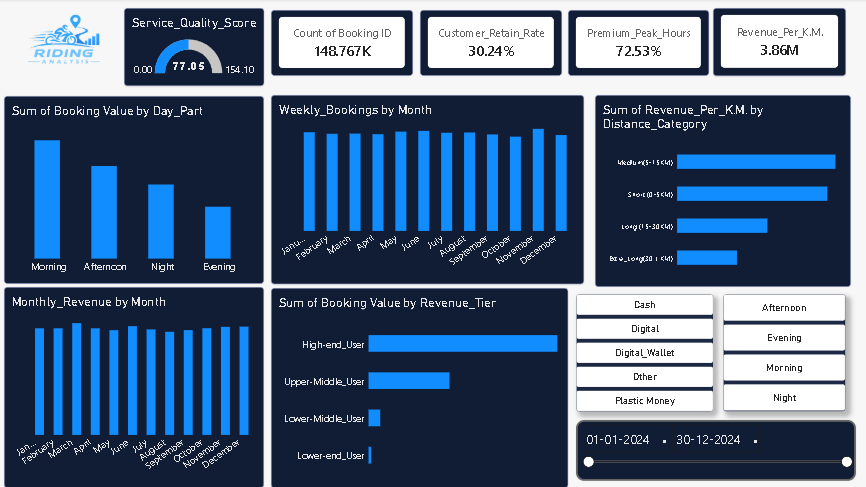

What the dashboard file says about the page in this screenshot:
{"tool":"powerbi","page":{"name":"Summary","canvas":[1920,1080],"ordinal":6},"visuals":[{"type":"gauge","fields":{"Y":["RideBookings and Measures.Service_Quality_Score"]},"box":[275.5,22,308.6,171.9],"z":0},{"type":"cardVisual","fields":{"Data":["RideBookings and Measures.Customer_Retain_Rate"]},"box":[927.9,26.4,313,145.5],"z":1000},{"type":"cardVisual","fields":{"Data":["Sum(RideBookings and Measures.Revenue_Per_K.M.)"]},"box":[1573.7,22,293.1,149.9],"z":2000},{"type":"cardVisual","fields":{"Data":["RideBookings and Measures.Premium_Peak_Hour_Index"]},"box":[1254.1,26.4,310.8,145.5],"z":3000},{"type":"clusteredColumnChart","fields":{"Category":["RideBookings and Measures.Day_Part"],"Y":["Sum(RideBookings and Measures.Booking Value)"]},"box":[11,216,573.1,414.4],"z":4000},{"type":"clusteredBarChart","fields":{"Category":["RideBookings and Measures.Revenue_Tier"],"Y":["Sum(RideBookings and Measures.Booking Value)"]},"box":[599.5,639.2,654.6,440.8],"z":5000},{"type":"clusteredBarChart","fields":{"Category":["RideBookings and Measures.Distance_Category"],"Y":["Sum(RideBookings and Measures.Revenue_Per_K.M.)"]},"box":[1313.6,213.8,564.2,423.2],"z":6000},{"type":"lineStackedColumnComboChart","fields":{"Category":["calendar and measures.Date.Variation.Date Hierarchy.Month"],"Y":["RideBookings and Measures.Monthly_Revenue"]},"box":[11,637,573.1,443],"z":7000},{"type":"lineStackedColumnComboChart","fields":{"Category":["calendar and measures.Date.Variation.Date Hierarchy.Month"],"Y":["RideBookings and Measures.Weekly_Bookings"]},"box":[599.5,213.8,689.9,416.6],"z":8000},{"type":"advancedSlicerVisual","fields":{"Values":["RideBookings and Measures.Payment_Method_Category"]},"box":[1271.1,651.6,303,260.1],"z":9000},{"type":"advancedSlicerVisual","fields":{"Values":["RideBookings and Measures.Day_Part"]},"box":[1595.5,651.6,270.8,260.1],"z":10000},{"type":"slicer","fields":{"Values":["calendar and measures.Date"]},"box":[1271.1,930.5,616.8,134.1],"z":11000},{"type":"cardVisual","fields":{"Data":["Count(rideBookings.Booking ID)"]},"box":[599.5,26.4,313,145.5],"z":12000},{"type":"image","box":[11,0,264.5,194],"z":12001}]}

Visuals, with their boxes in screenshot pixels (x1, y1, x2, y2), scaled from the page's 1920x1080 canvas onto the 866x487 screenshot:
gauge - RideBookings and Measures.Service_Quality_Score: 124:10:263:87
cardVisual - RideBookings and Measures.Customer_Retain_Rate: 419:12:560:78
cardVisual - Sum(RideBookings and Measures.Revenue_Per_K.M.): 710:10:842:78
cardVisual - RideBookings and Measures.Premium_Peak_Hour_Index: 566:12:706:78
clusteredColumnChart - RideBookings and Measures.Day_Part x Sum(RideBookings and Measures.Booking Value): 5:97:263:284
clusteredBarChart - RideBookings and Measures.Revenue_Tier x Sum(RideBookings and Measures.Booking Value): 270:288:566:486
clusteredBarChart - RideBookings and Measures.Distance_Category x Sum(RideBookings and Measures.Revenue_Per_K.M.): 592:96:847:287
lineStackedColumnComboChart - calendar and measures.Date.Variation.Date Hierarchy.Month x RideBookings and Measures.Monthly_Revenue: 5:287:263:486
lineStackedColumnComboChart - calendar and measures.Date.Variation.Date Hierarchy.Month x RideBookings and Measures.Weekly_Bookings: 270:96:582:284
advancedSlicerVisual - RideBookings and Measures.Payment_Method_Category: 573:294:710:411
advancedSlicerVisual - RideBookings and Measures.Day_Part: 720:294:842:411
slicer - calendar and measures.Date: 573:420:852:480
cardVisual - Count(rideBookings.Booking ID): 270:12:412:78
image: 5:0:124:87
